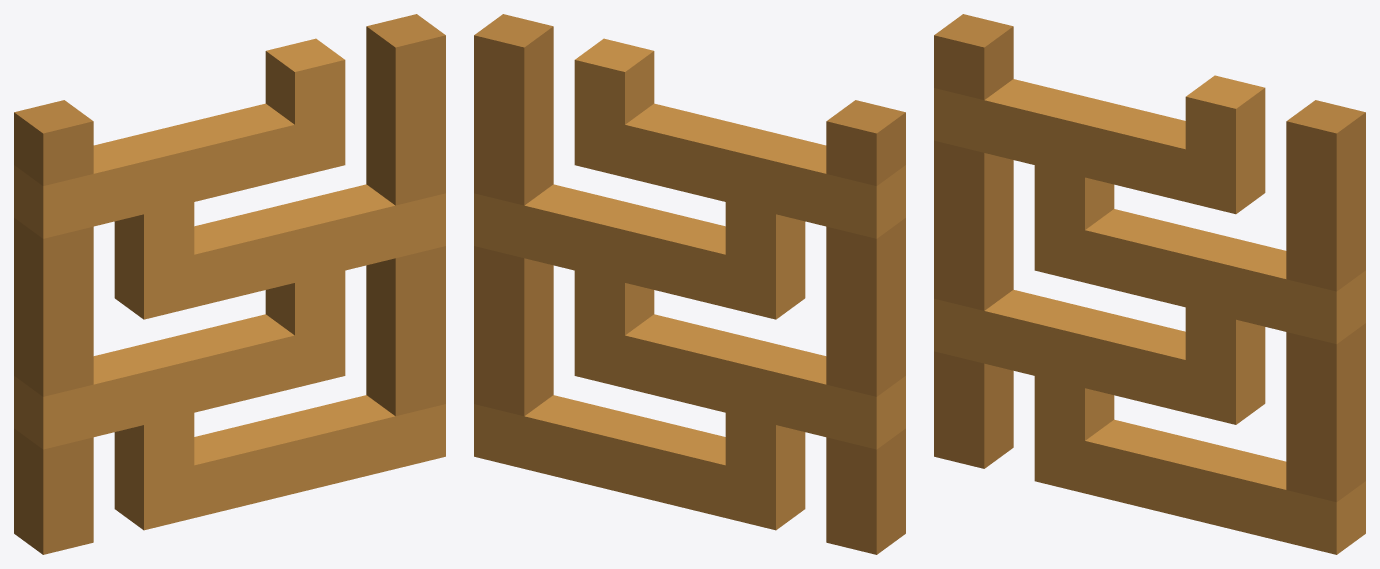
Rendered from Palm Ladder.glb.
3 renders of one model, left to right at view 1: azimuth 30°, elevation 25°; view 2: azimuth 150°, elevation 25°; view 3: azimuth 330°, elevation 25°, orthographic.
Parts seen in each view (by area): view 1: Untitled; view 2: Untitled; view 3: Untitled.
Part boxes in pixels (<box>): Untitled: <box>14,14,445,554</box>; Untitled: <box>474,14,905,554</box>; Untitled: <box>934,14,1365,554</box>.
Bounding box in the file's own units: 0.8 × 0.8 × 0.1.
Materials: 1 (1 with a texture image).
